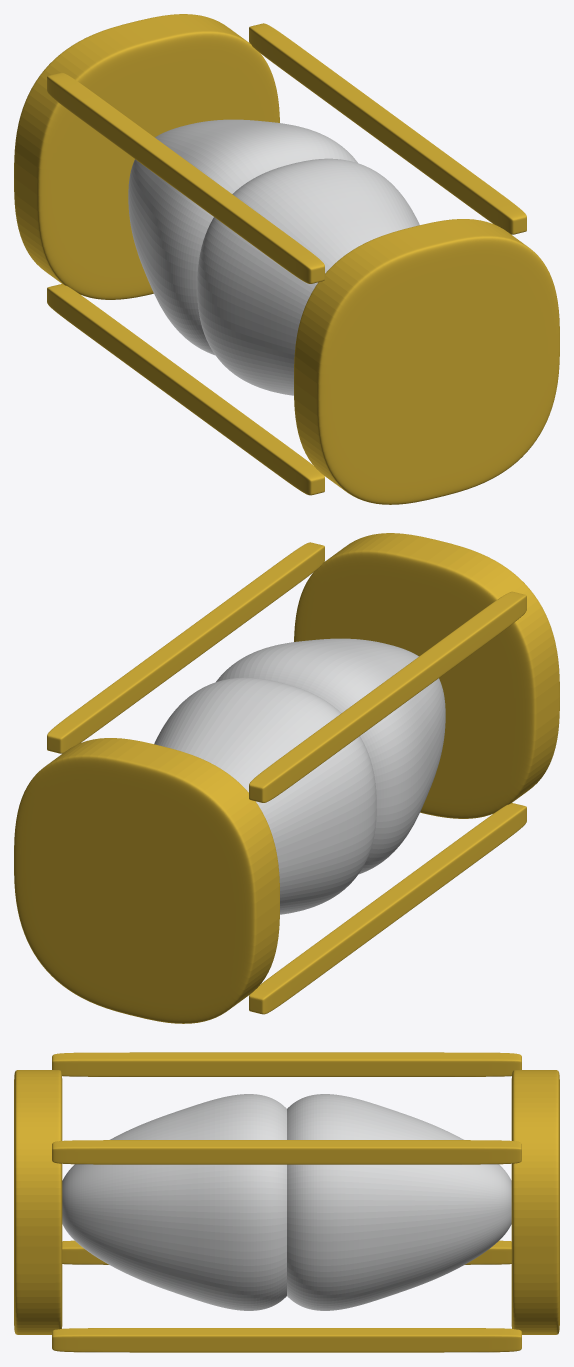
Rendered from hourglass_sq.glb.
3 views of the same model, one above another, from view 1: azimuth 30°, elevation 25°; view 2: azimuth 150°, elevation 25°; view 3: azimuth 270°, elevation 25° (orthographic). The views are drawn at different scales.
Parts seen in each view (by area): view 1: superquadric_0, superquadric_1, superquadric_2, superquadric_3, superquadric_6, superquadric_4, superquadric_7; view 2: superquadric_1, superquadric_0, superquadric_3, superquadric_2, superquadric_6, superquadric_4, superquadric_7; view 3: superquadric_2, superquadric_3, superquadric_0, superquadric_1, superquadric_7, superquadric_5, superquadric_6, superquadric_4.
Part boxes in pixels (x1,y1,x2,y2): superquadric_0: [294, 219, 559, 504]; superquadric_1: [14, 14, 279, 299]; superquadric_2: [197, 158, 419, 395]; superquadric_3: [128, 119, 357, 355]; superquadric_6: [47, 72, 324, 283]; superquadric_4: [47, 284, 324, 495]; superquadric_7: [249, 23, 526, 234]; superquadric_1: [14, 738, 279, 1023]; superquadric_0: [294, 533, 559, 818]; superquadric_3: [154, 677, 376, 914]; superquadric_2: [216, 638, 445, 874]; superquadric_6: [249, 591, 526, 802]; superquadric_4: [249, 803, 526, 1014]; superquadric_7: [47, 542, 324, 753]; superquadric_2: [62, 1094, 286, 1310]; superquadric_3: [287, 1094, 511, 1310]; superquadric_0: [14, 1070, 62, 1334]; superquadric_1: [511, 1070, 559, 1334]; superquadric_7: [52, 1140, 521, 1164]; superquadric_5: [52, 1328, 521, 1352]; superquadric_6: [52, 1052, 521, 1076]; superquadric_4: [62, 1240, 511, 1264].
Bounding box in the file's own units: 0.4556 × 0.4556 × 1.
